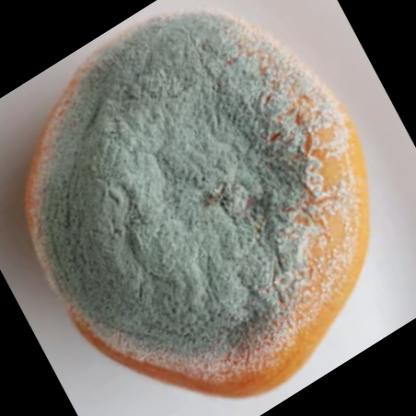rotten: (26, 10, 370, 397)
